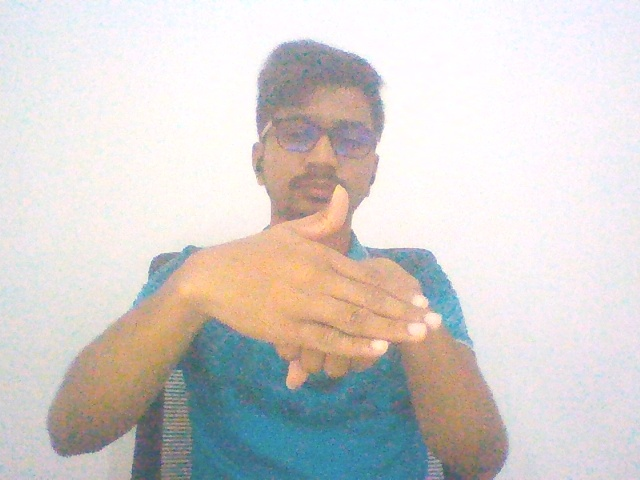pineapple: (141, 166, 466, 407)
